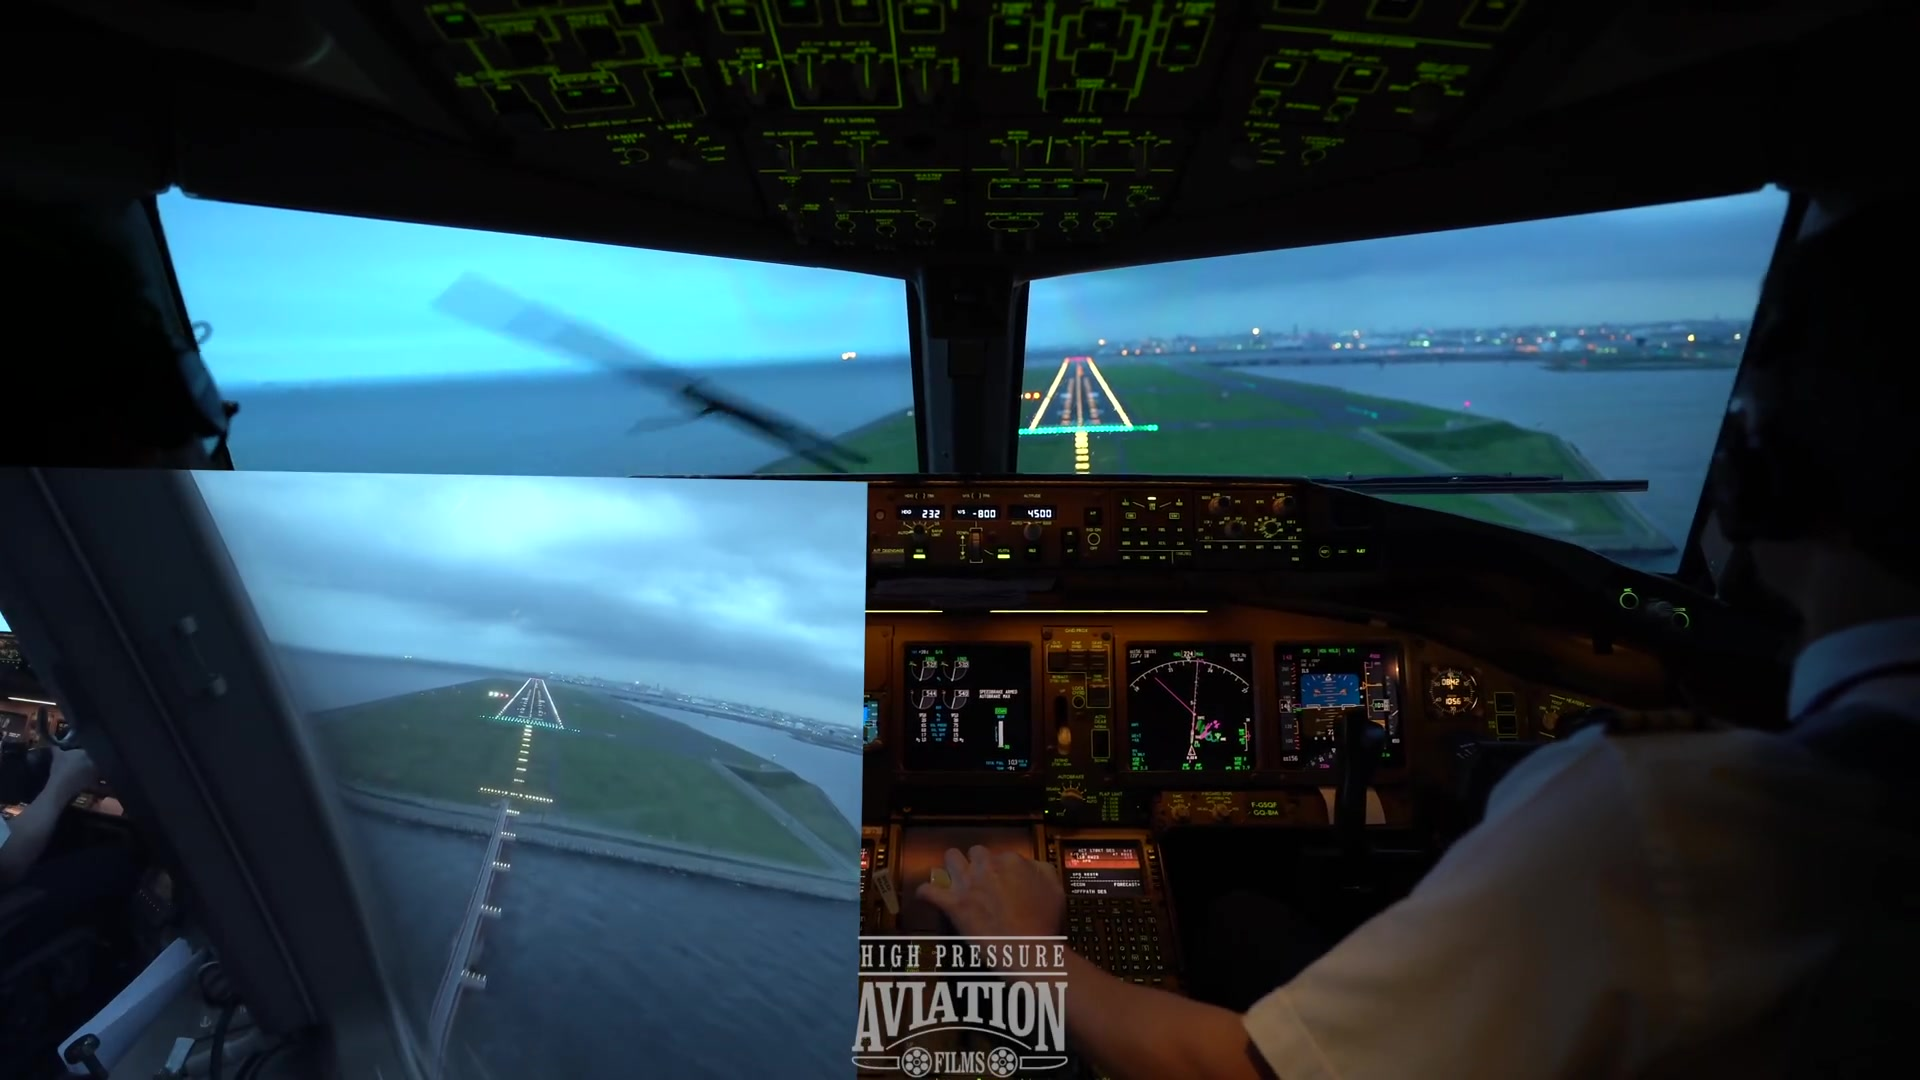entrance: (498, 715, 558, 729)
runway: (1025, 353, 1131, 435), (493, 673, 570, 735)
